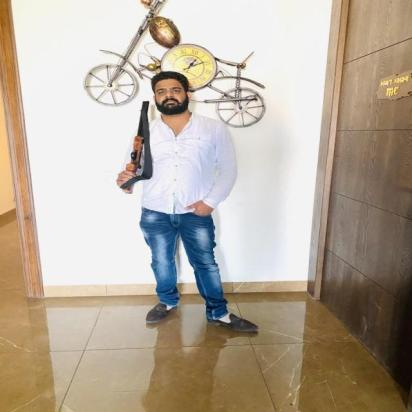Gun: (120, 100, 152, 195)
